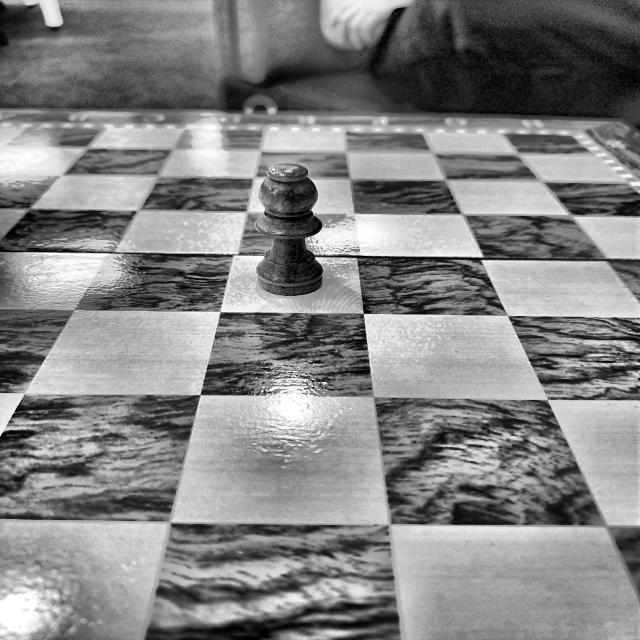black-bishop: (252, 163, 324, 295)
